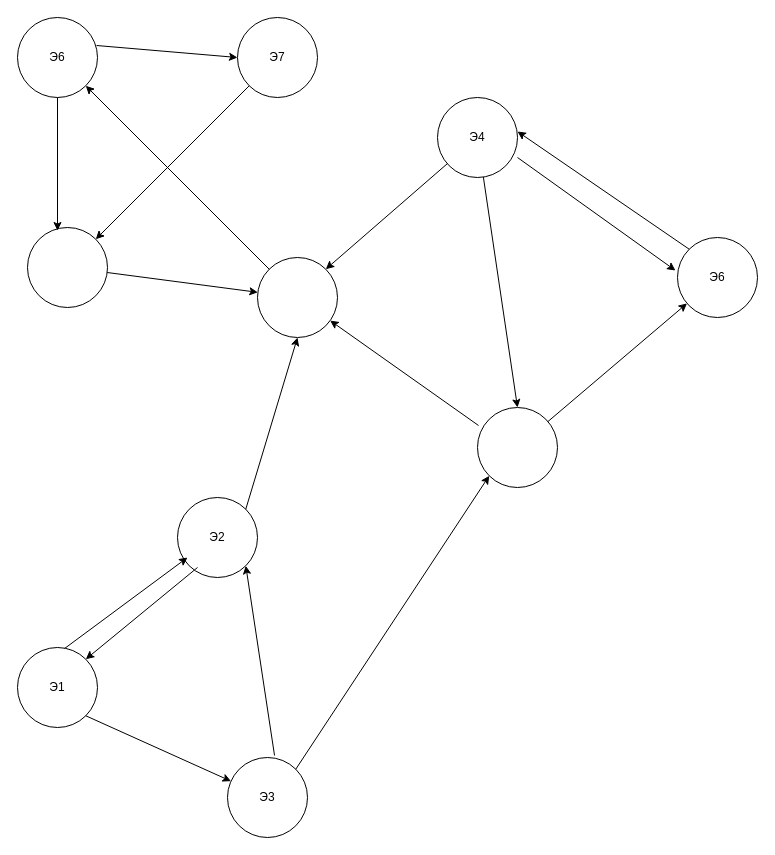
This 775x855 diagram has some shape labels left out. Each missing label, with the centre of its shape:
"Э10" belongs at (x=67, y=267).
"Э5" belongs at (x=517, y=447).
"Э8" belongs at (x=297, y=297).
